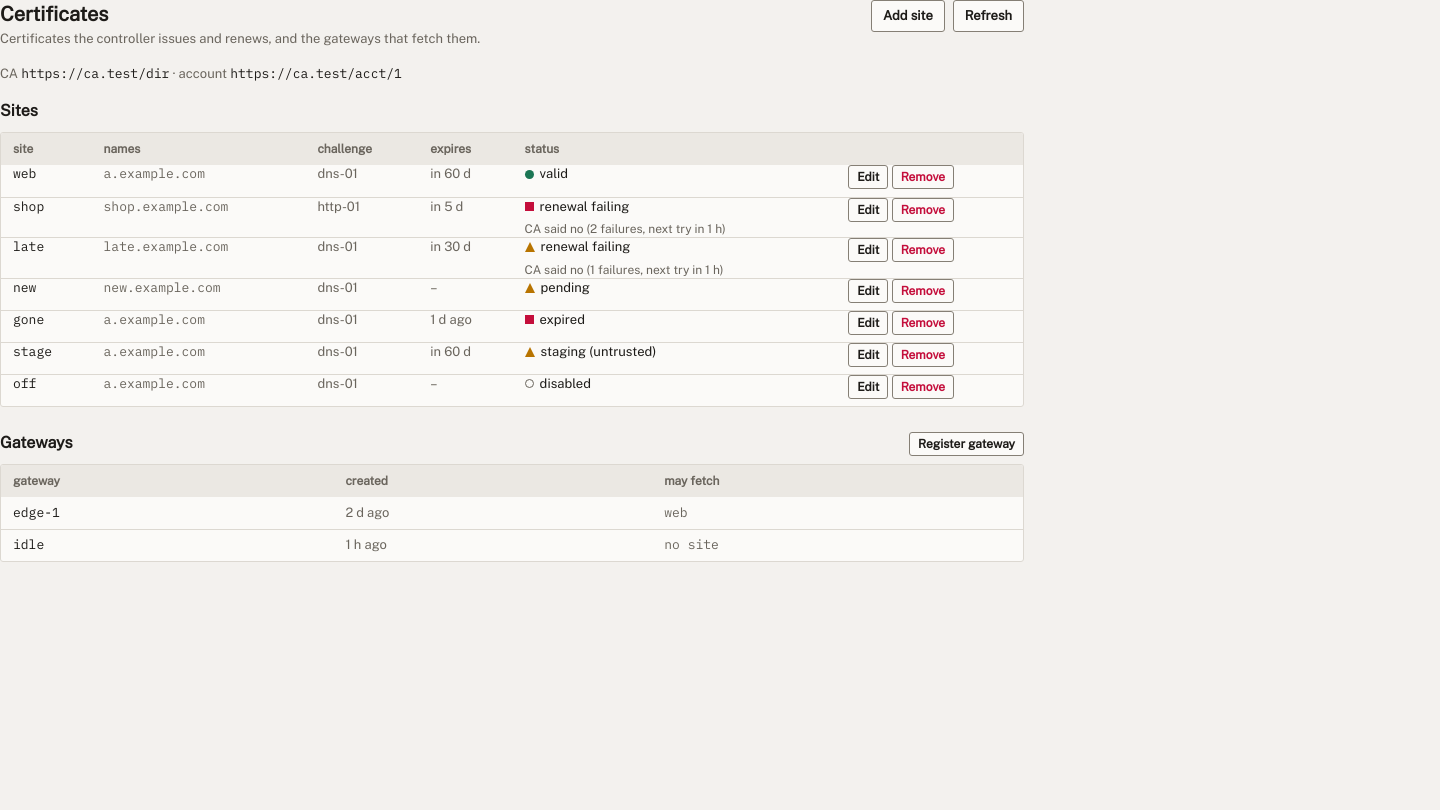
it: CertificatesPage › writes › shows the controller's refusal in the dialog
Check: the text "https://ca.test/acct/1" is shown, box [230,65,402,82]
Click the button with aria-label "Edit site shop": (868, 210) [848,198,888,222]
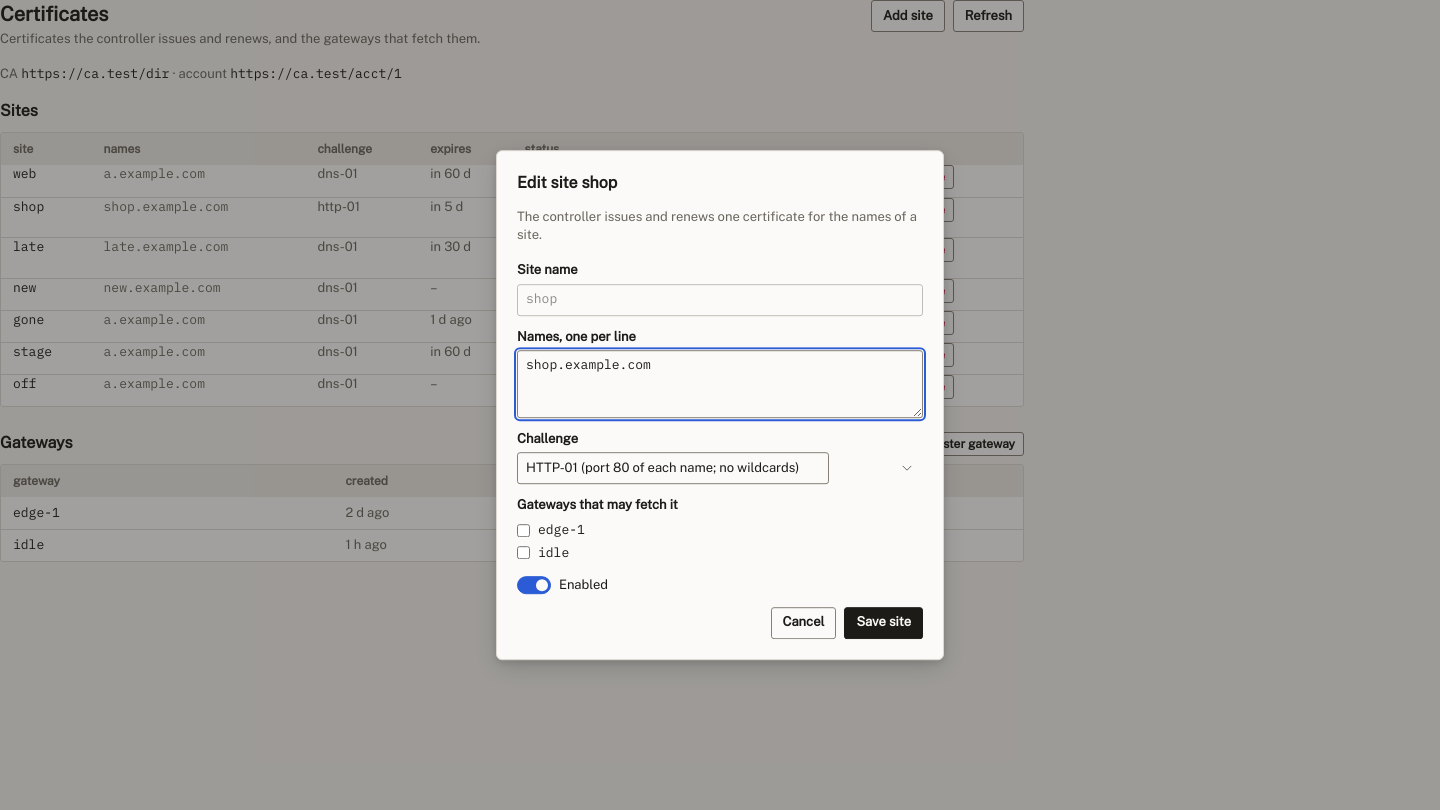
Check: the field labelled "Site name" is disabled, box [517,284,923,316]
Click the button "Save site": (884, 623) [844,607,923,639]
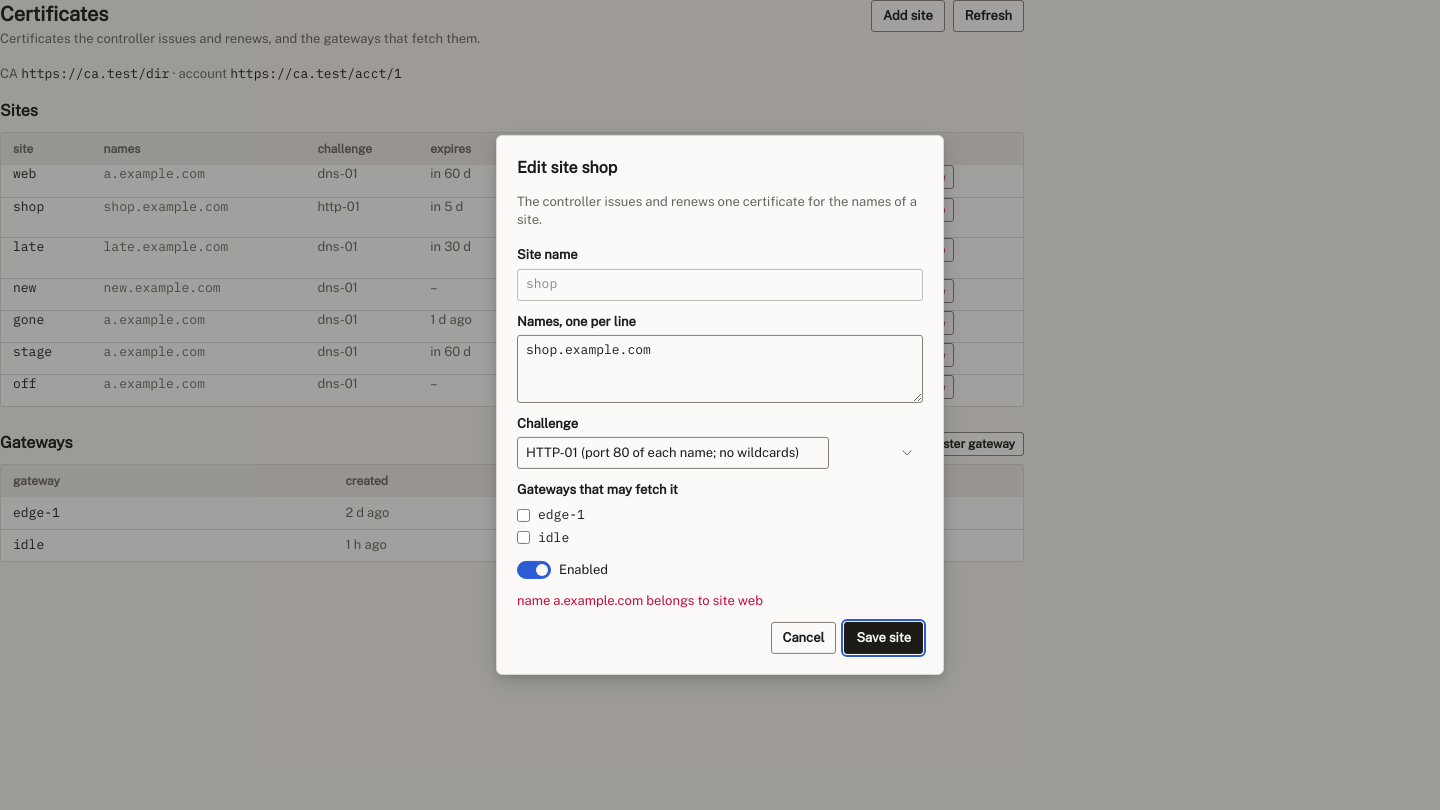
Check: the text "name a.example.com belongs to site web" is shown, box [517,592,763,608]
